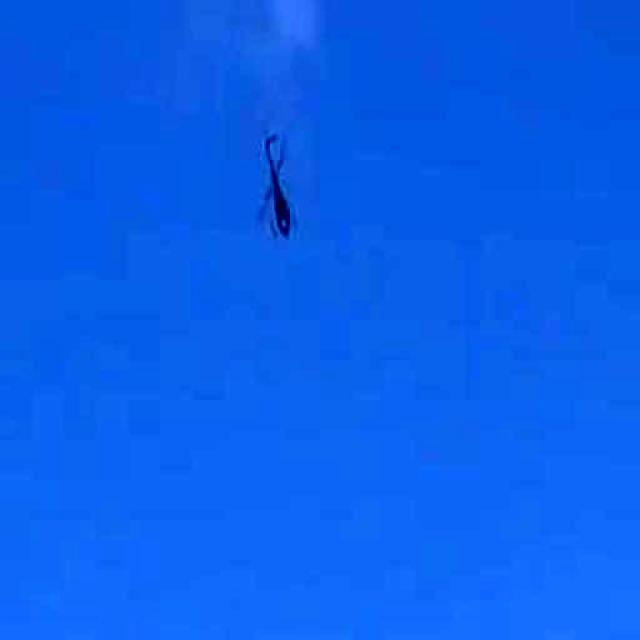drone: (216, 115, 336, 265)
